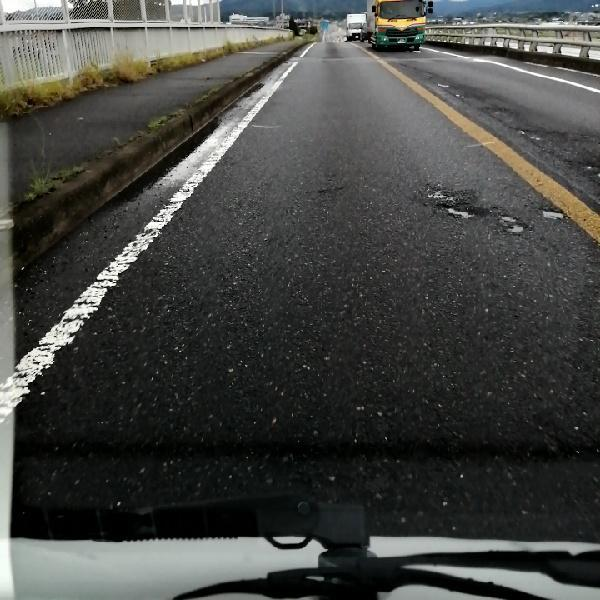D40: (421, 186, 480, 215), (491, 208, 532, 233), (534, 201, 566, 223)
